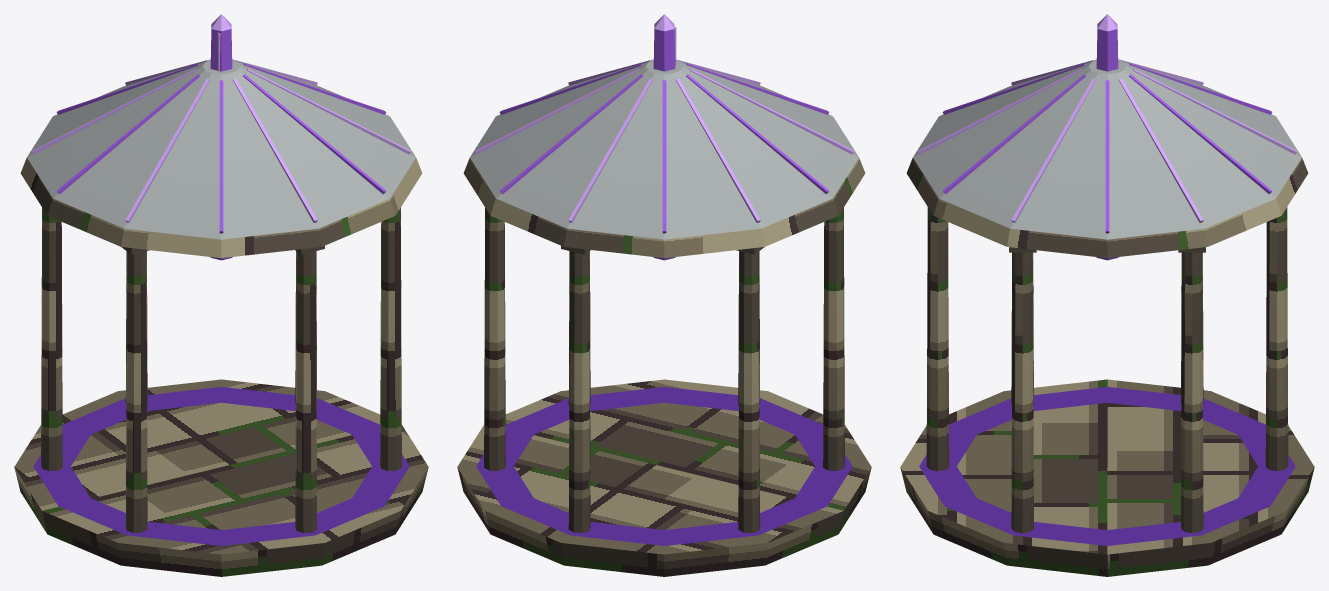
The model's file is lumen_pavilion.glb.
3 renders of one model, left to right at view 1: azimuth 30°, elevation 25°; view 2: azimuth 150°, elevation 25°; view 3: azimuth 270°, elevation 25°, orthographic.
Parts seen in each view (by area): view 1: lumen_pavilion; view 2: lumen_pavilion; view 3: lumen_pavilion.
Boxes of the visible parts, box(x1,y1,x2,y2) form: lumen_pavilion: box(14, 14, 428, 576); lumen_pavilion: box(457, 14, 871, 576); lumen_pavilion: box(900, 14, 1314, 576).
Bounding box in the file's own units: 3.3 × 4.2 × 3.3.
3 materials, 1 textured.
